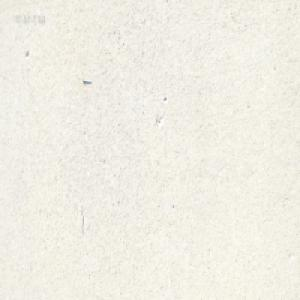Nail: (80, 77, 91, 83)
